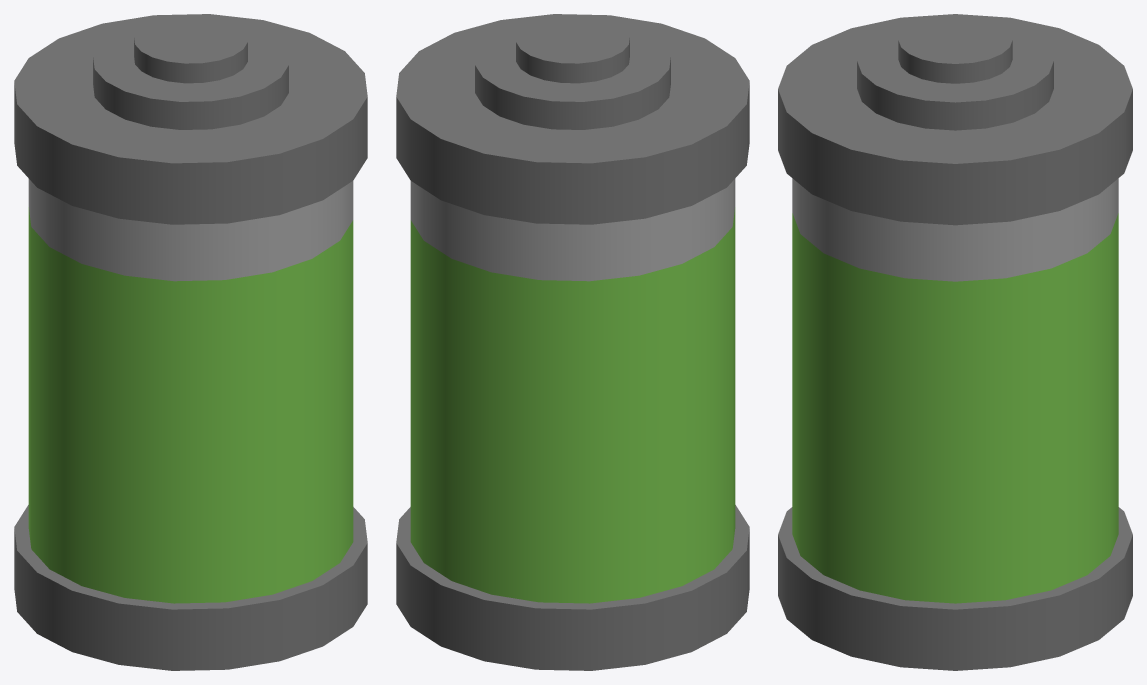
Rendered from battery.glb.
3 views of the same model, side by side, from view 1: azimuth 30°, elevation 25°; view 2: azimuth 150°, elevation 25°; view 3: azimuth 270°, elevation 25° (orthographic).
Visible parts, largest first — view 1: batteryobj.001; view 2: batteryobj.001; view 3: batteryobj.001.
Boxes of the visible parts, x1,y1,x2,y2 form: batteryobj.001: (14, 14, 367, 670); batteryobj.001: (396, 14, 749, 670); batteryobj.001: (778, 14, 1132, 670).
Size of the model in its own units: 4.05 by 7 by 4.05.
